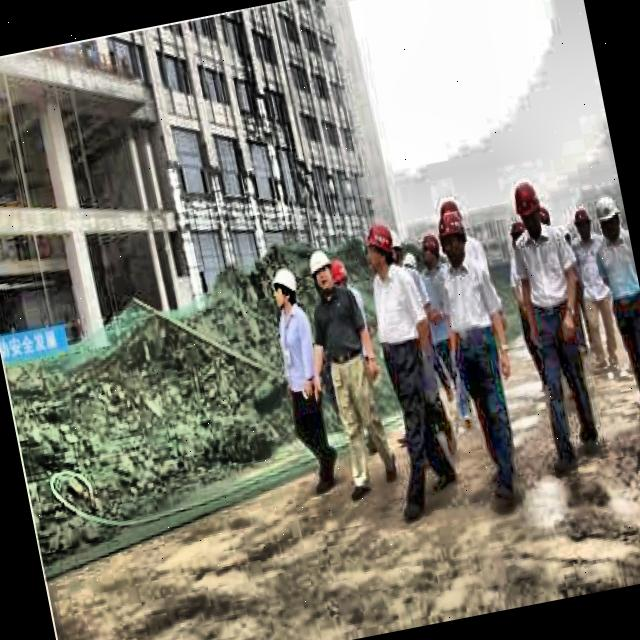helmet: (432, 205, 476, 268), (360, 215, 400, 277), (302, 240, 339, 302), (509, 178, 546, 240), (591, 188, 627, 248), (266, 264, 304, 316), (414, 230, 444, 274), (570, 202, 596, 244), (329, 256, 353, 297), (386, 226, 406, 268)
